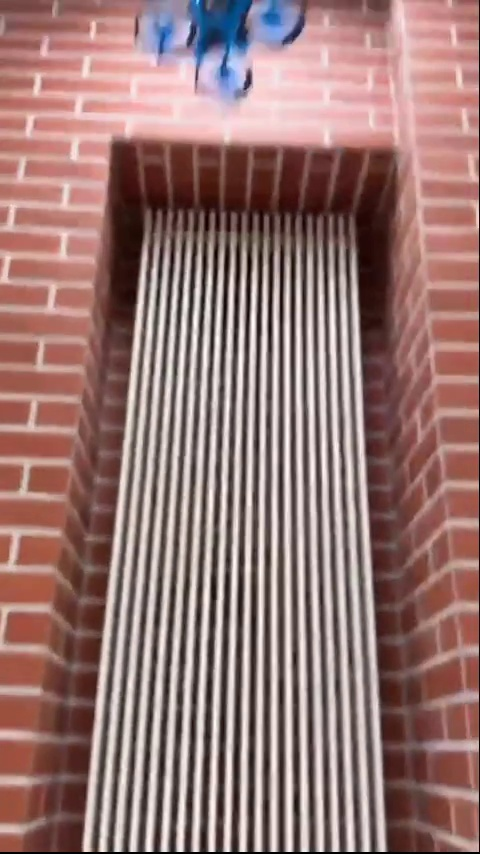drone: (136, 1, 313, 97)
